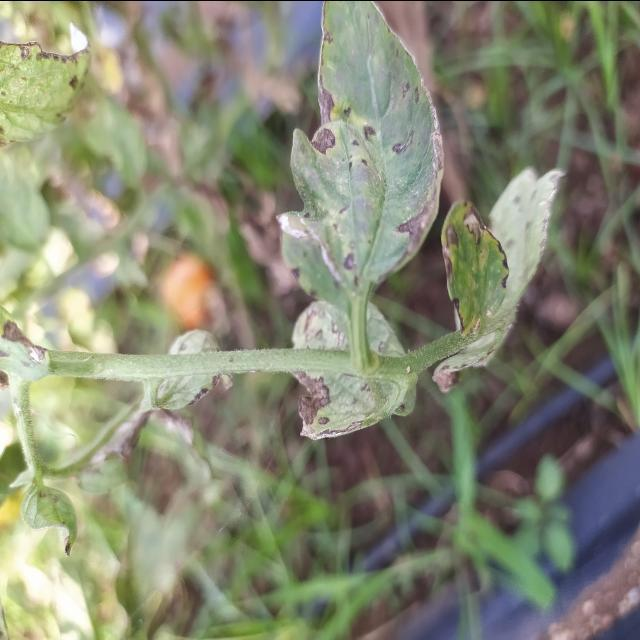Tomato mosaic virus leaf: (274, 0, 446, 306), (282, 310, 424, 442), (0, 32, 96, 154), (440, 190, 512, 340)
